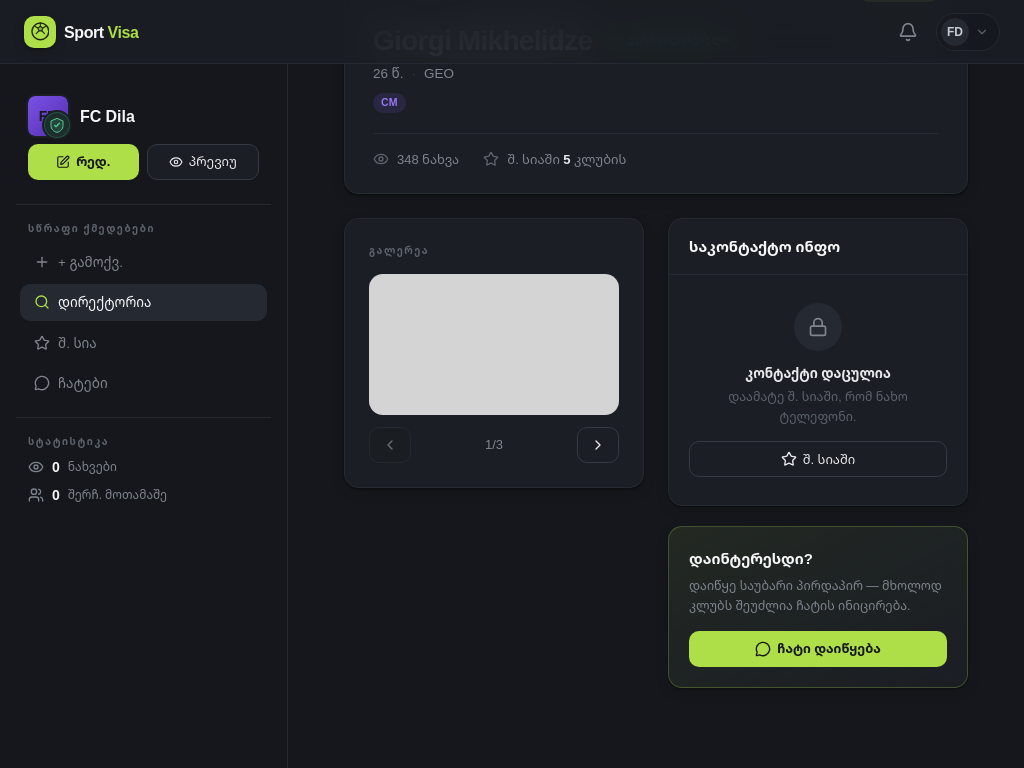
Test: FootballerDetailClient — gallery › navigates to next photo on click
(page scrolled)
Click the button named "შემდეგი ფოტო".
click(598, 445)  # box [577,427,619,463]
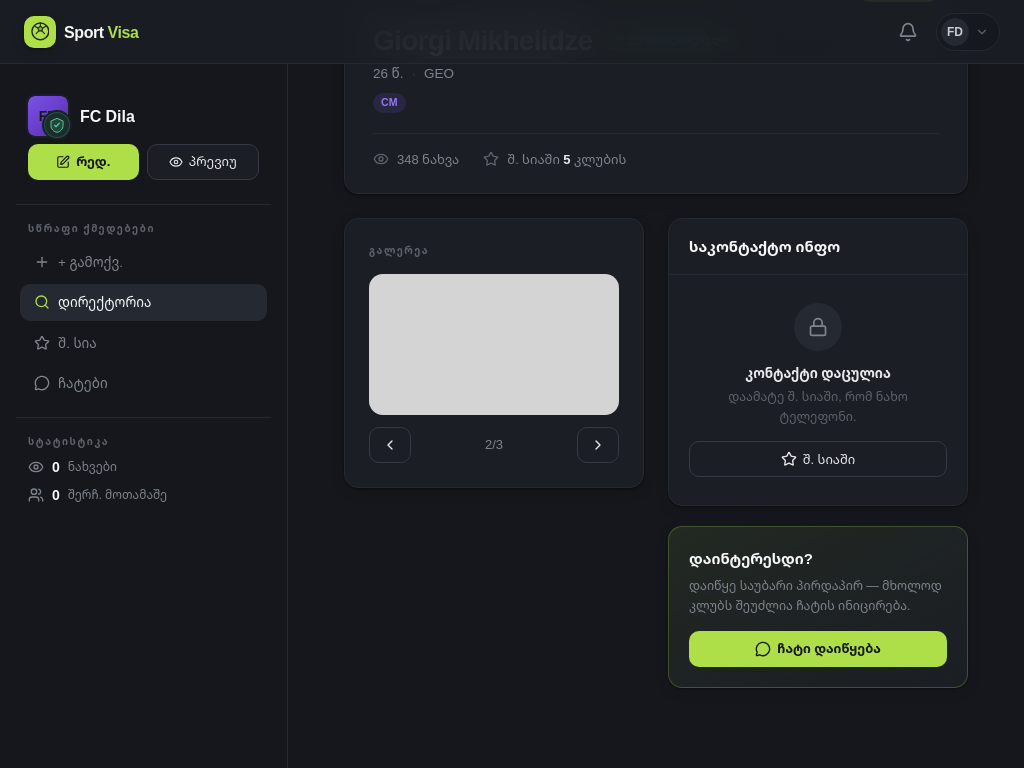
Expected: the text "2/3" is shown, [485,435,503,454]
